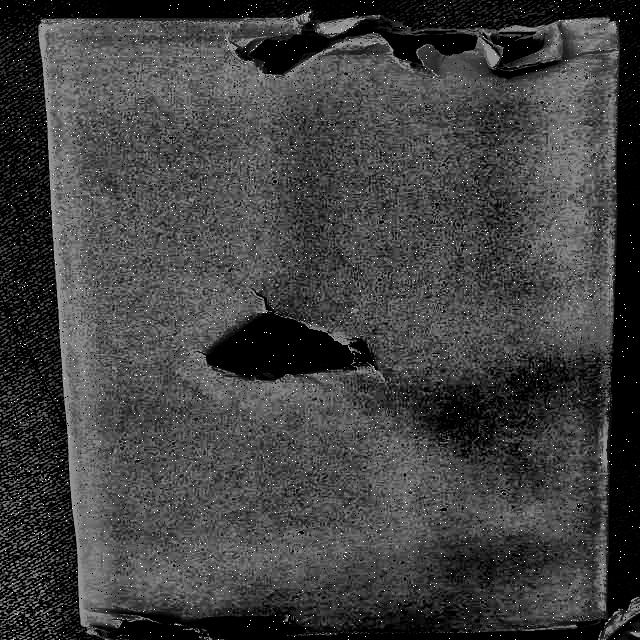box: (32, 9, 624, 636)
hole: (208, 9, 580, 83), (192, 308, 366, 392), (75, 615, 215, 639)
